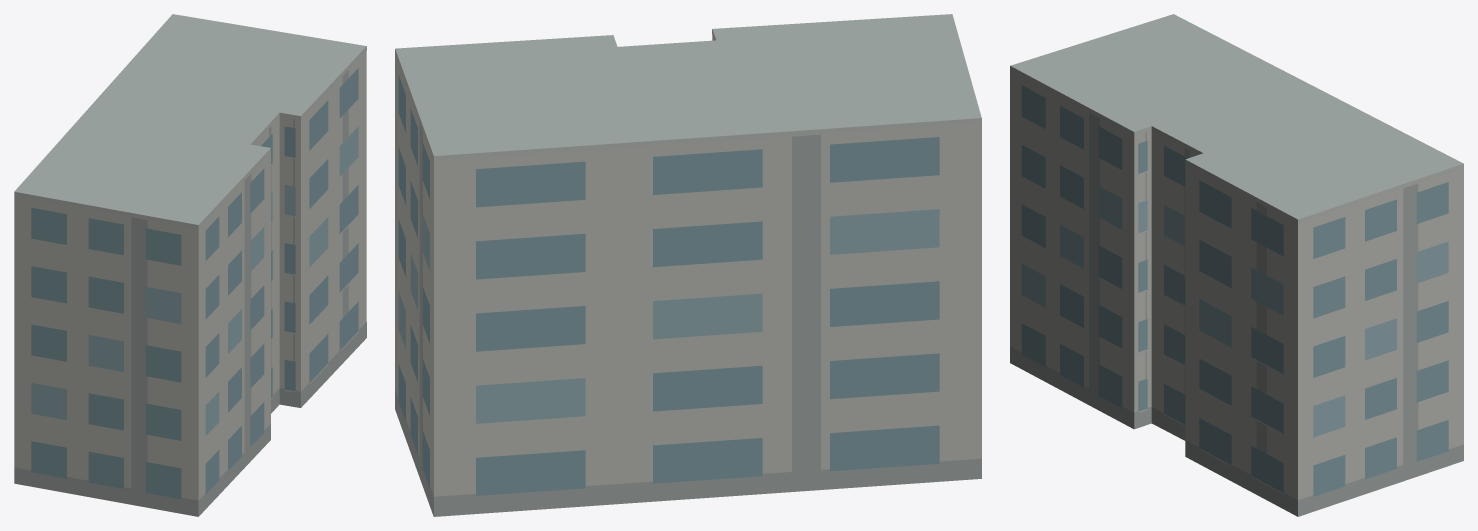
The model's file is survey-upis-32768749.glb.
3 views of the same model, side by side, from view 1: azimuth 30°, elevation 25°; view 2: azimuth 150°, elevation 25°; view 3: azimuth 270°, elevation 25° (orthographic). The views are drawn at different scales.
Parts seen in each view (by area): view 1: survey-upis-32768749.tmp; view 2: survey-upis-32768749.tmp; view 3: survey-upis-32768749.tmp.
Part boxes in pixels (x1,y1,x2,y2): survey-upis-32768749.tmp: (14,14,366,516); survey-upis-32768749.tmp: (395,14,981,516); survey-upis-32768749.tmp: (1010,14,1463,516).
Size of the model in its own units: 24.03 by 16.2 by 22.41.
